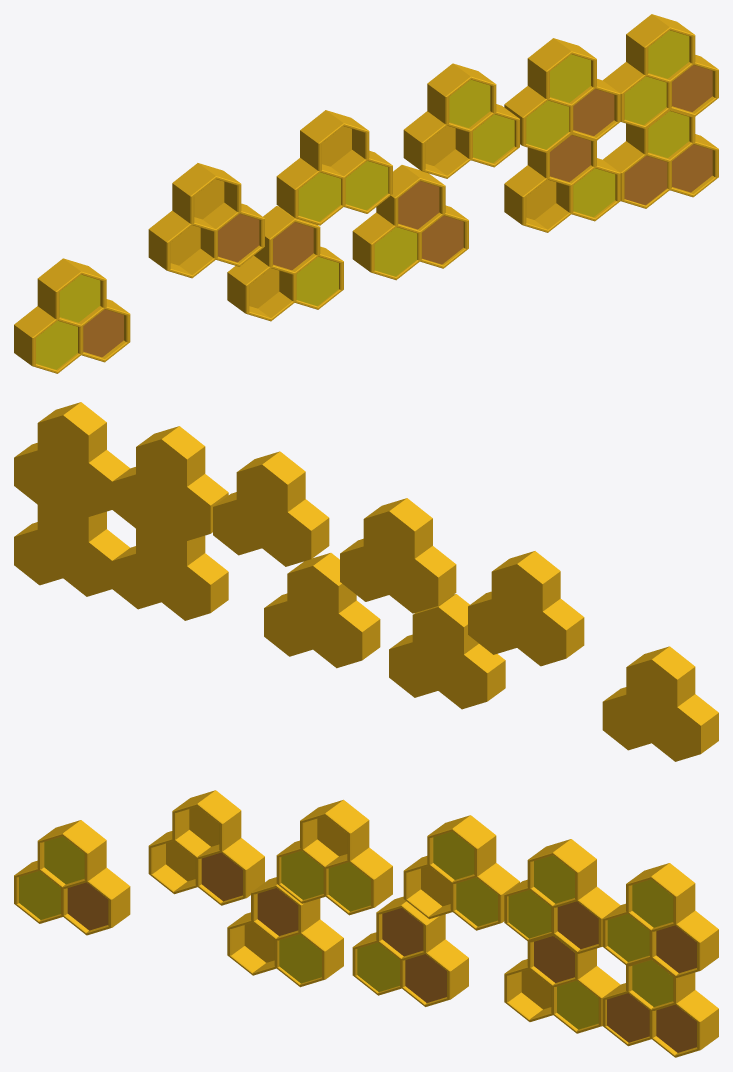
The model's file is honeyLevel3.fbx.
The picture shows the model from 3 angles, top to bottom: view 1: azimuth 30°, elevation 25°; view 2: azimuth 150°, elevation 25°; view 3: azimuth 330°, elevation 25°; orthographic projection.
Visible parts, largest first — view 1: Cube.081, Cube.070, Cube.006, Cube.078, Cube.001, Cube.002, Cube.005; view 2: Cube.081, Cube.070, Cube.006, Cube.078, Cube.001, Cube.002, Cube.005; view 3: Cube.081, Cube.001, Cube.070, Cube.078, Cube.006, Cube.002, Cube.005.
Boxes of the visible parts, bbox=[...] form: Cube.081: bbox=[504, 14, 718, 232]; Cube.070: bbox=[14, 258, 130, 373]; Cube.006: bbox=[403, 63, 519, 178]; Cube.078: bbox=[148, 163, 264, 278]; Cube.001: bbox=[276, 110, 392, 225]; Cube.002: bbox=[352, 165, 468, 280]; Cube.005: bbox=[227, 206, 343, 321]; Cube.081: bbox=[14, 402, 228, 620]; Cube.070: bbox=[602, 646, 718, 761]; Cube.006: bbox=[213, 451, 329, 566]; Cube.078: bbox=[468, 551, 584, 666]; Cube.001: bbox=[340, 498, 456, 613]; Cube.002: bbox=[264, 553, 380, 668]; Cube.005: bbox=[389, 594, 505, 709]; Cube.081: bbox=[504, 839, 718, 1057]; Cube.001: bbox=[276, 799, 392, 915]; Cube.070: bbox=[14, 820, 130, 935]; Cube.078: bbox=[148, 790, 264, 905]; Cube.006: bbox=[403, 815, 519, 930]; Cube.002: bbox=[352, 896, 468, 1006]; Cube.005: bbox=[227, 877, 343, 987].
Size of the model in its own units: 3590 by 986 by 167.
